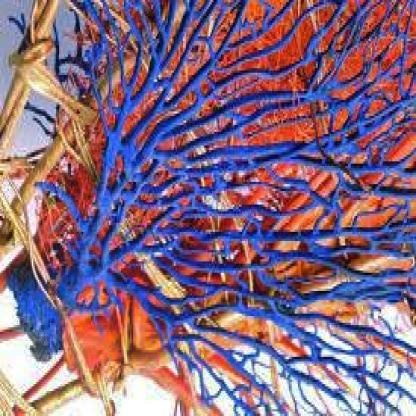net: (71, 2, 416, 332)
